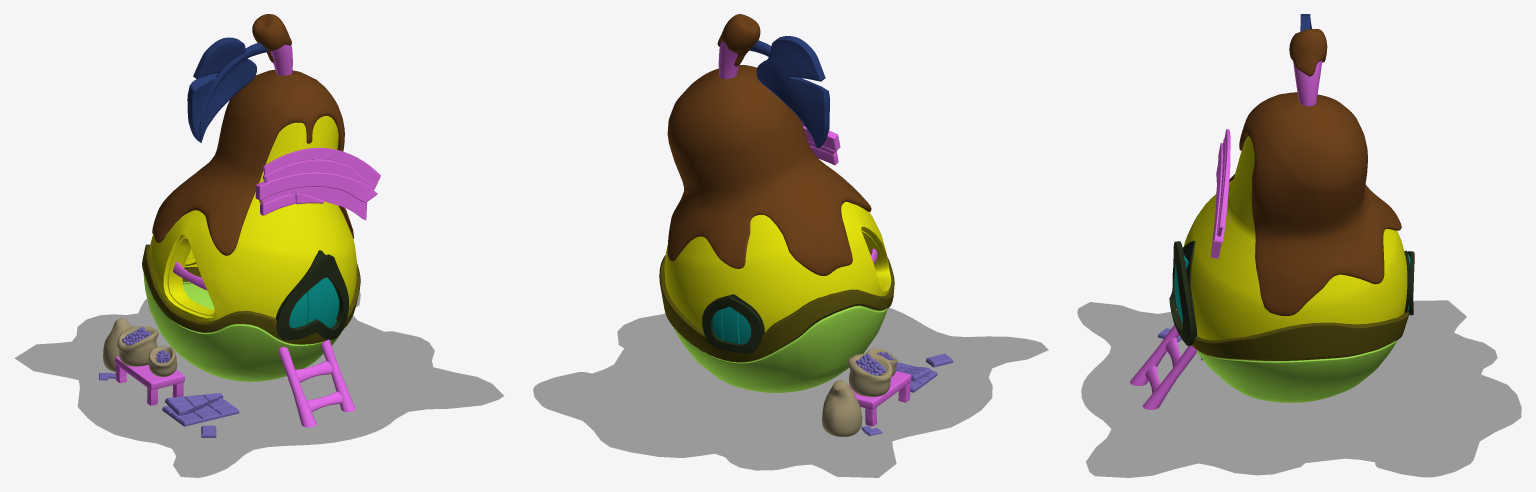
File: chocolate house.fbx
3 renders of one model, left to right at view 1: azimuth 30°, elevation 25°; view 2: azimuth 150°, elevation 25°; view 3: azimuth 270°, elevation 25°, orthographic. The views are drawn at different scales.
Visible parts, largest first — view 1: Ground_low, Body_low, Head_low, Ladder_low, Bottom_low, Leaf_low, Front_low, Chocolet_low, Bags_low, Doors_low; view 2: Ground_low, Head_low, Body_low, Bottom_low, Leaf_low, Bags_low, Ladder_low, Front_low, Chocolet_low, Doors_low; view 3: Ground_low, Head_low, Body_low, Bottom_low, Ladder_low, Front_low.
Part boxes in pixels (x1,y1,x2,y2): Ground_low: [15, 291, 503, 477]; Body_low: [149, 115, 356, 321]; Head_low: [152, 14, 353, 255]; Ladder_low: [115, 44, 380, 427]; Bottom_low: [142, 244, 360, 381]; Leaf_low: [187, 37, 268, 142]; Front_low: [184, 250, 348, 340]; Chocolet_low: [99, 326, 239, 437]; Bags_low: [103, 318, 177, 376]; Doors_low: [289, 277, 339, 327]; Ground_low: [533, 308, 1048, 477]; Head_low: [667, 14, 871, 275]; Body_low: [664, 202, 891, 332]; Bottom_low: [659, 255, 894, 392]; Leaf_low: [749, 36, 829, 148]; Bags_low: [822, 348, 897, 436]; Ladder_low: [718, 41, 911, 426]; Front_low: [702, 294, 764, 353]; Chocolet_low: [855, 351, 953, 436]; Doors_low: [712, 306, 751, 343]; Ground_low: [1077, 300, 1521, 477]; Head_low: [1229, 29, 1401, 315]; Body_low: [1184, 136, 1407, 340]; Bottom_low: [1176, 305, 1409, 402]; Ladder_low: [1130, 60, 1322, 409]; Front_low: [1169, 240, 1414, 346].
Size of the model in its own units: 15.84 by 15.54 by 16.38.
